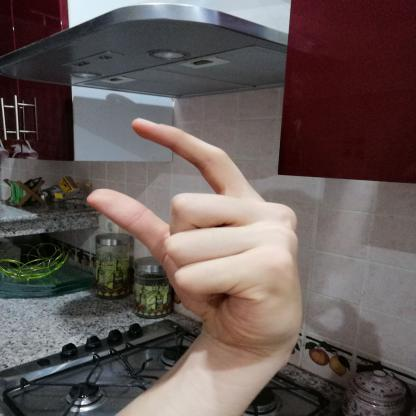DELL: (71, 108, 323, 357)
